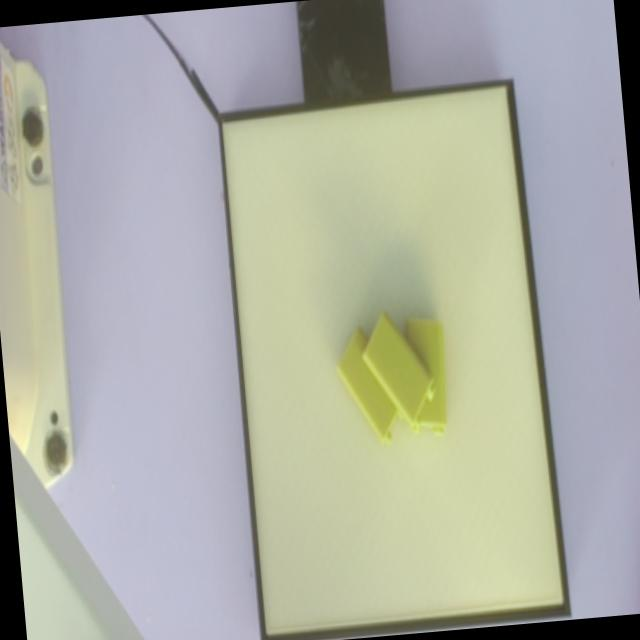bateria: (361, 305, 435, 426)
mesa: (216, 77, 571, 640)
